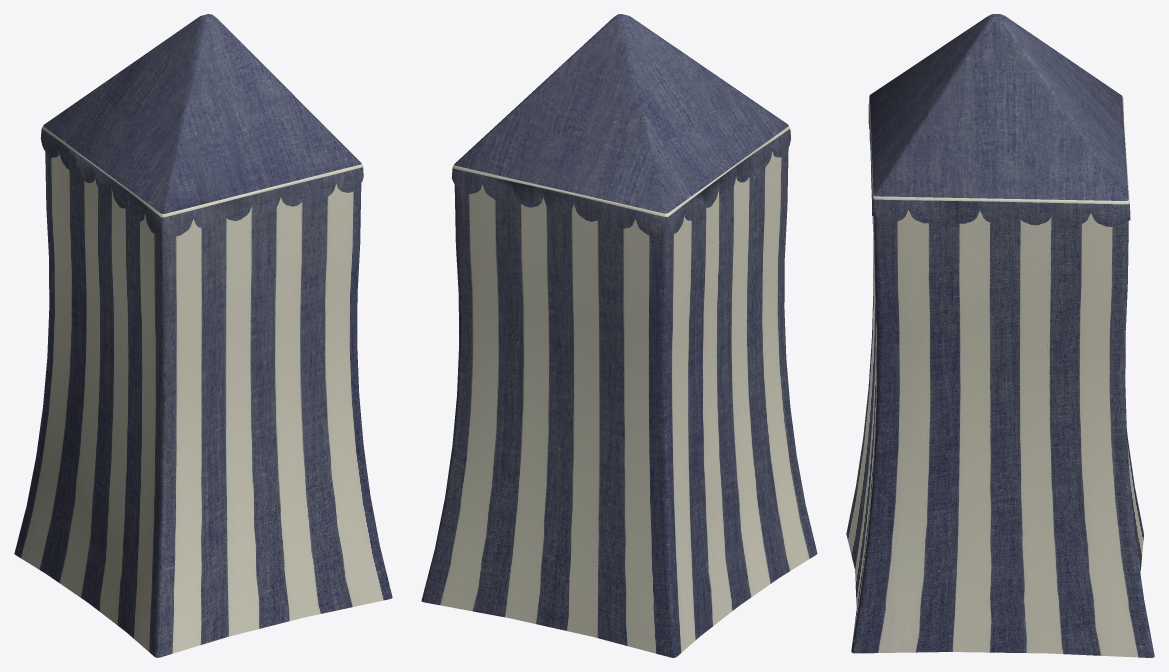
Rendered from Cambiador.FBX.
The picture shows the model from 3 angles, left to right: view 1: azimuth 30°, elevation 25°; view 2: azimuth 150°, elevation 25°; view 3: azimuth 270°, elevation 25°; orthographic projection. The views are drawn at different scales.
Parts seen in each view (by area): view 1: Cambiador; view 2: Cambiador; view 3: Cambiador.
Part boxes in pixels (x1,y1,x2,y2): Cambiador: (14,14,392,657); Cambiador: (421,14,817,657); Cambiador: (846,14,1154,657).
Size of the model in its own units: 118 by 253 by 122.
